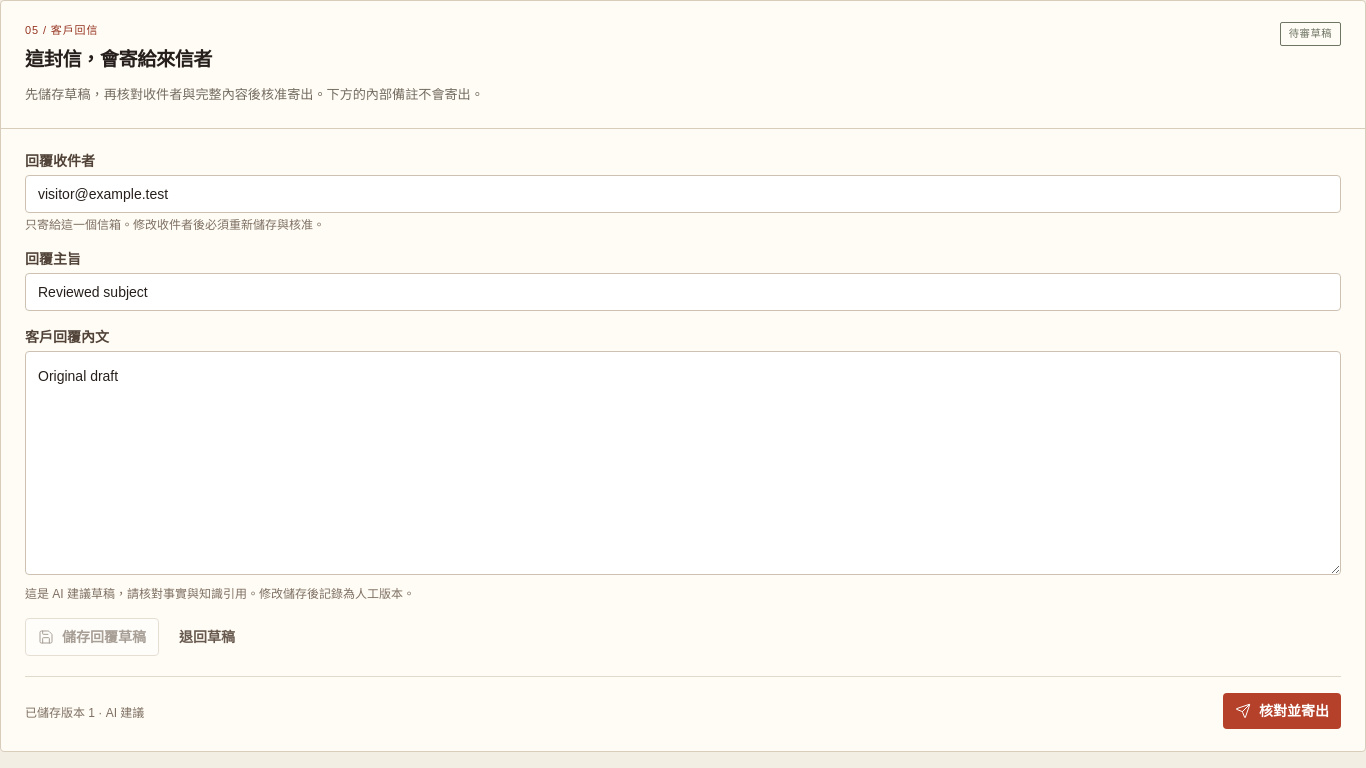
Test: the approval dialog keeps keyboard focus on the exact-content decision and restores it on escape
Click the button "核對並寄出" at (1282,711), box top-left (1223, 693), bottom-right (1341, 729)
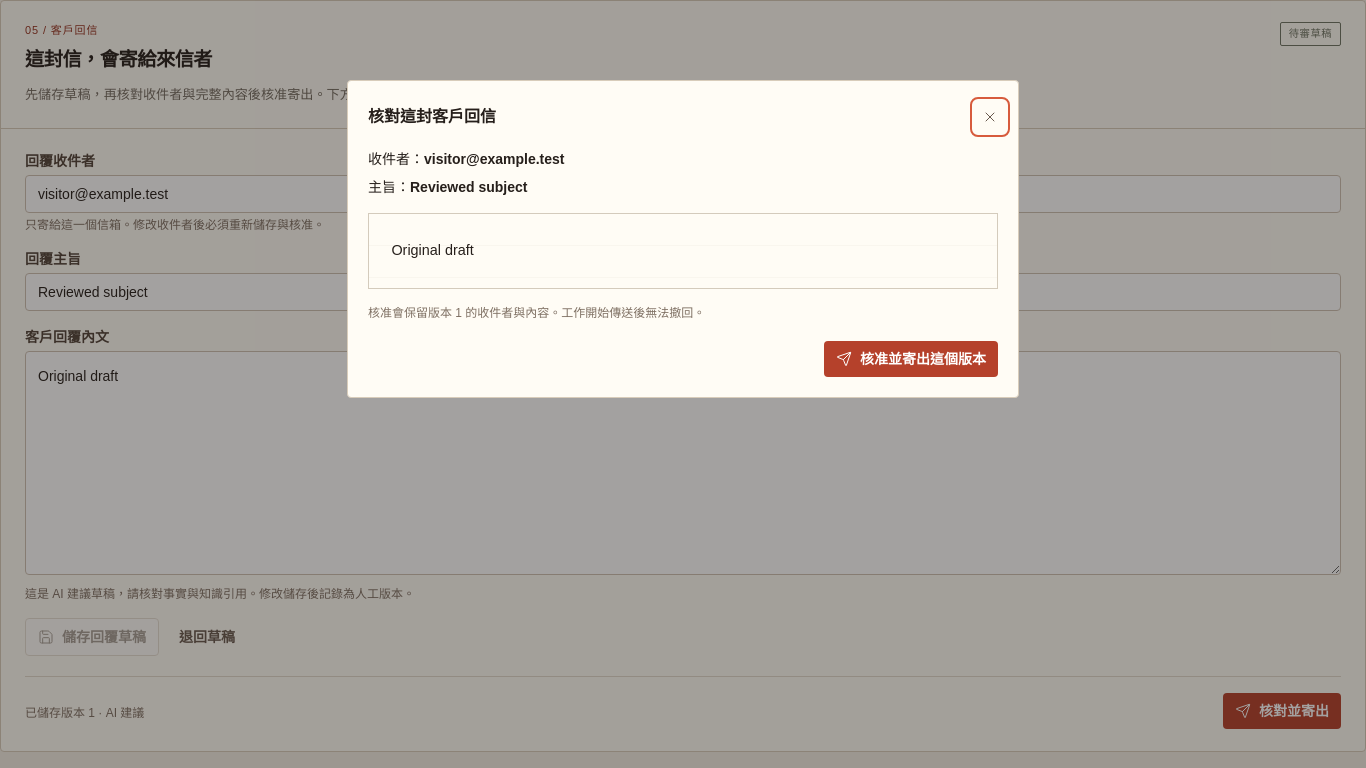
Press Shift+Tab
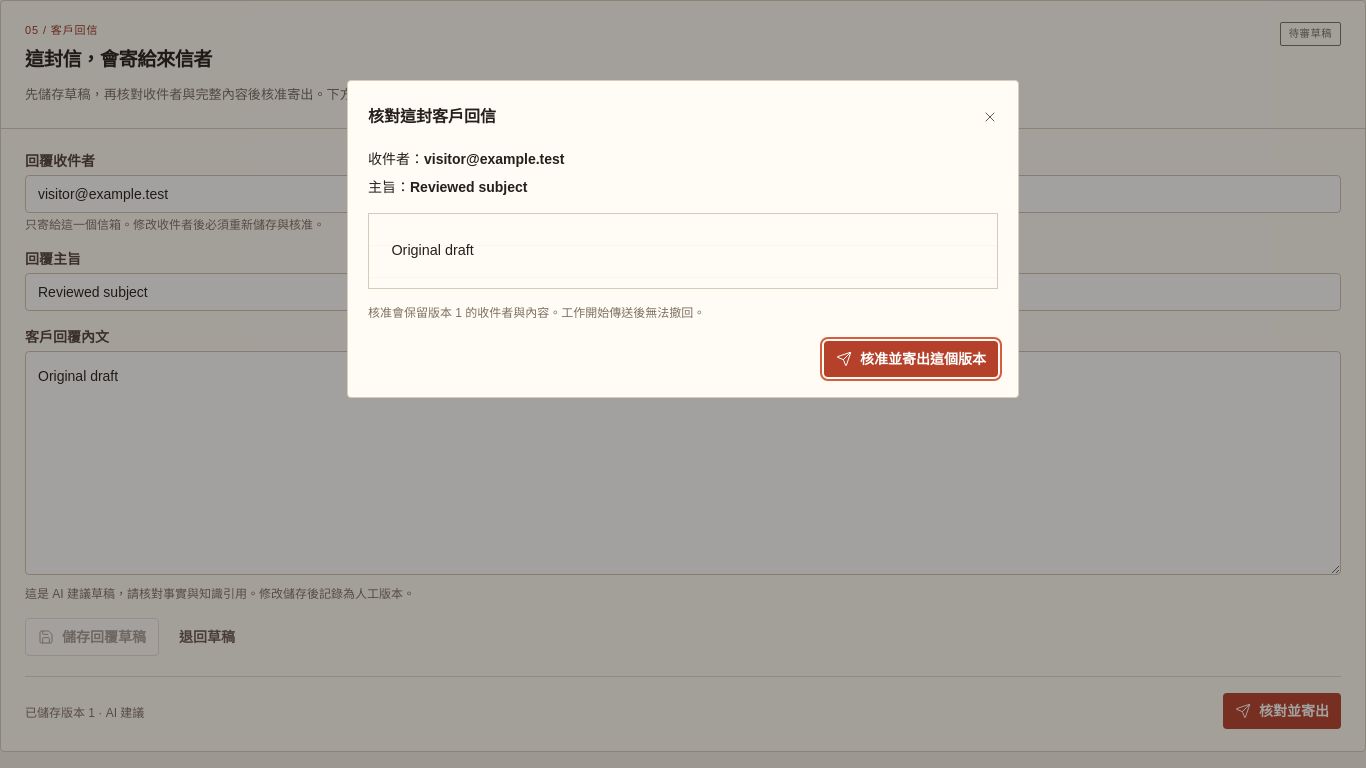
Press Tab
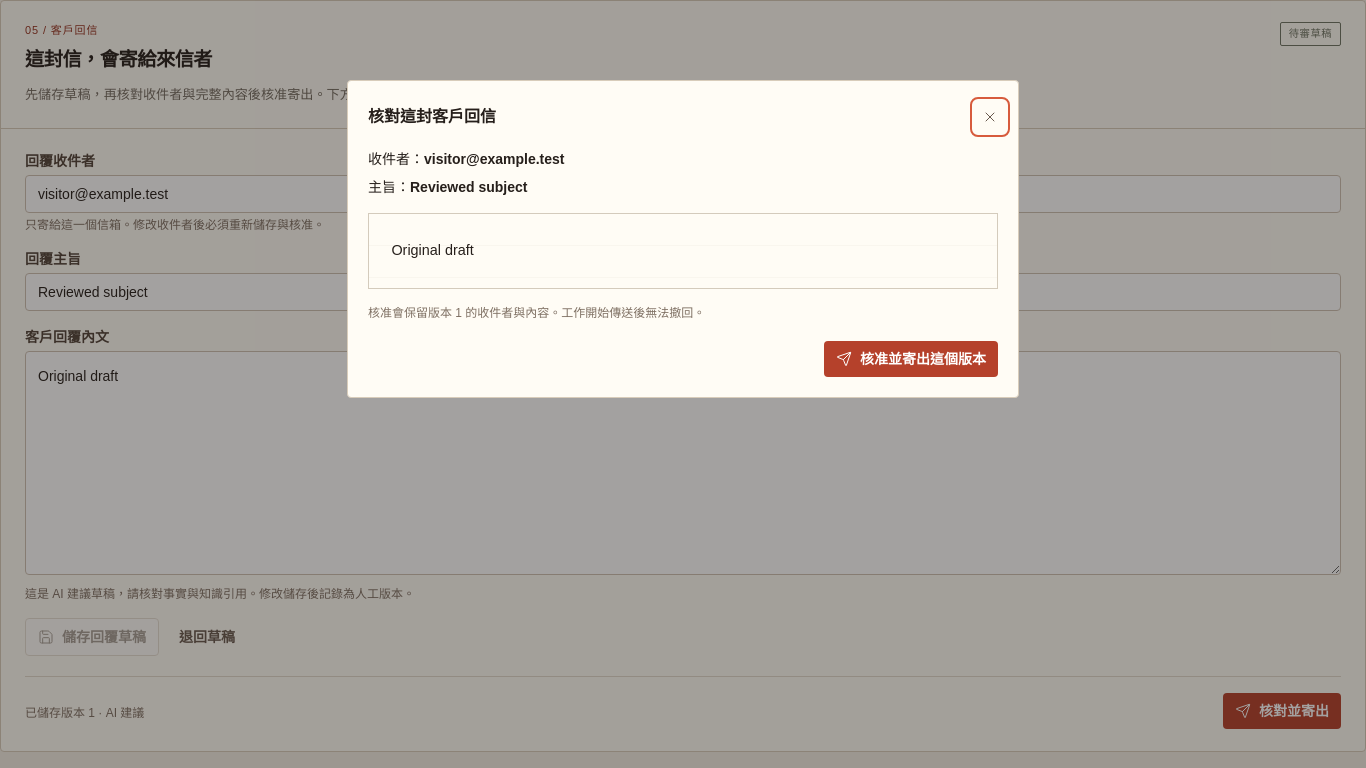
Press Escape
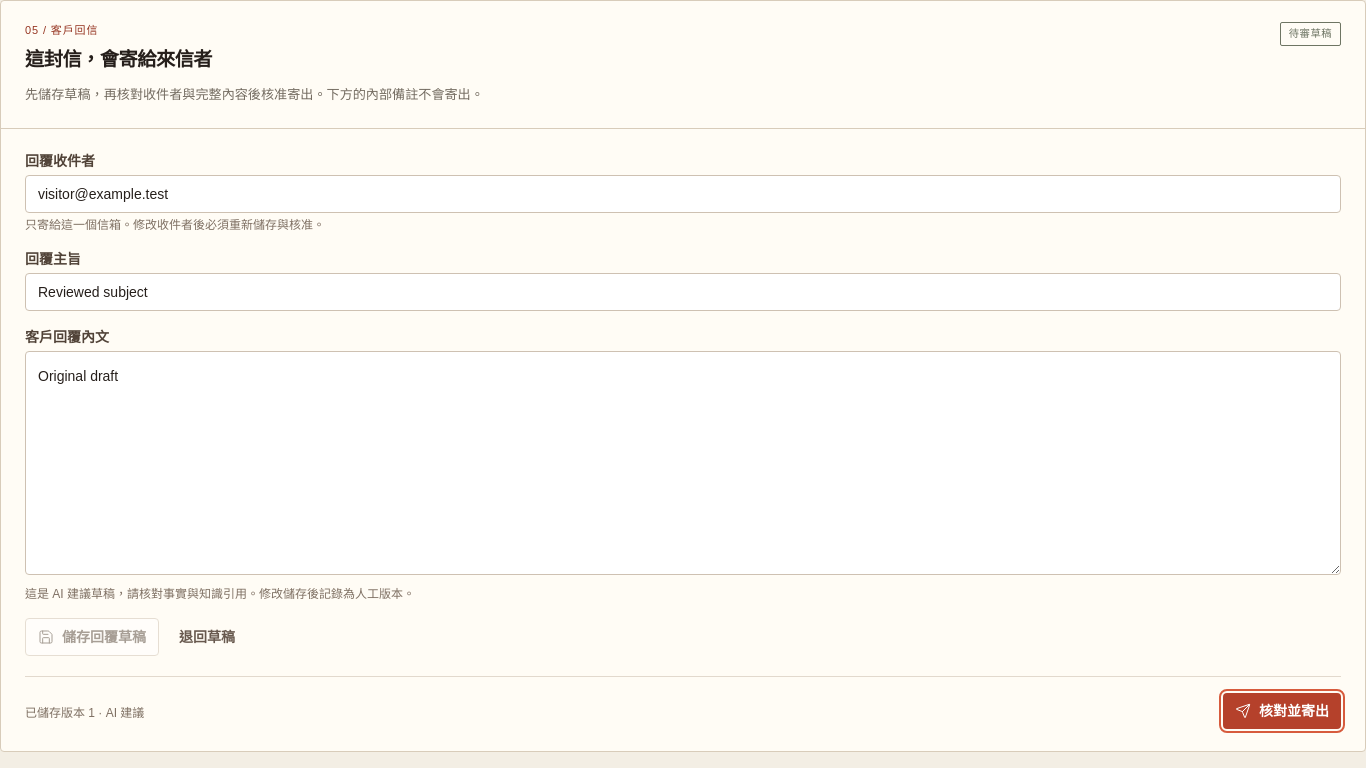
Result: the dialog is gone
